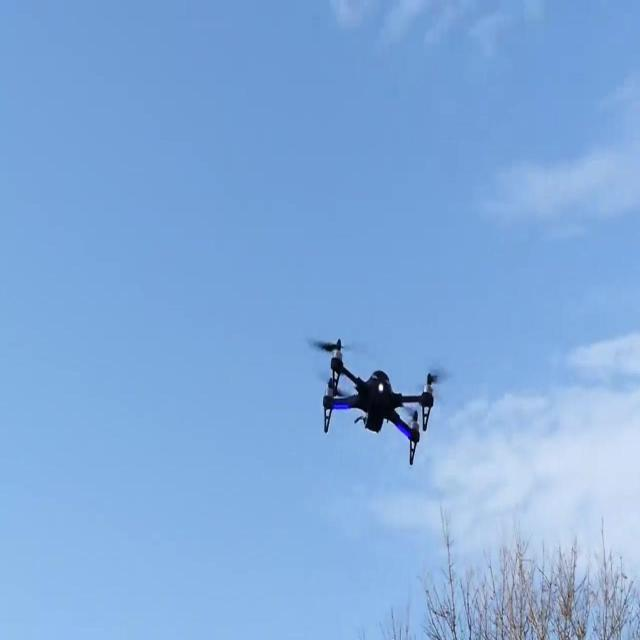drone: (320, 339, 443, 467)
